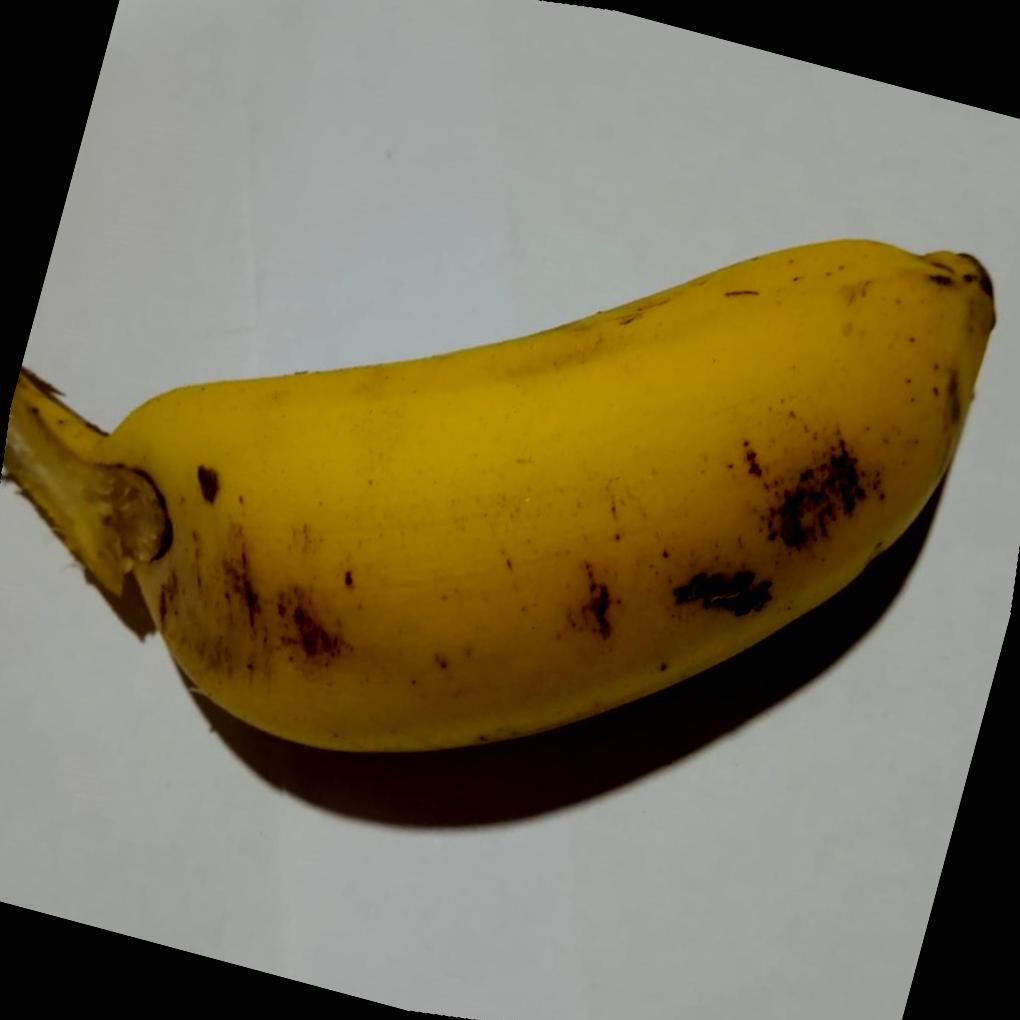Banana Ripe: (31, 73, 1020, 924)
